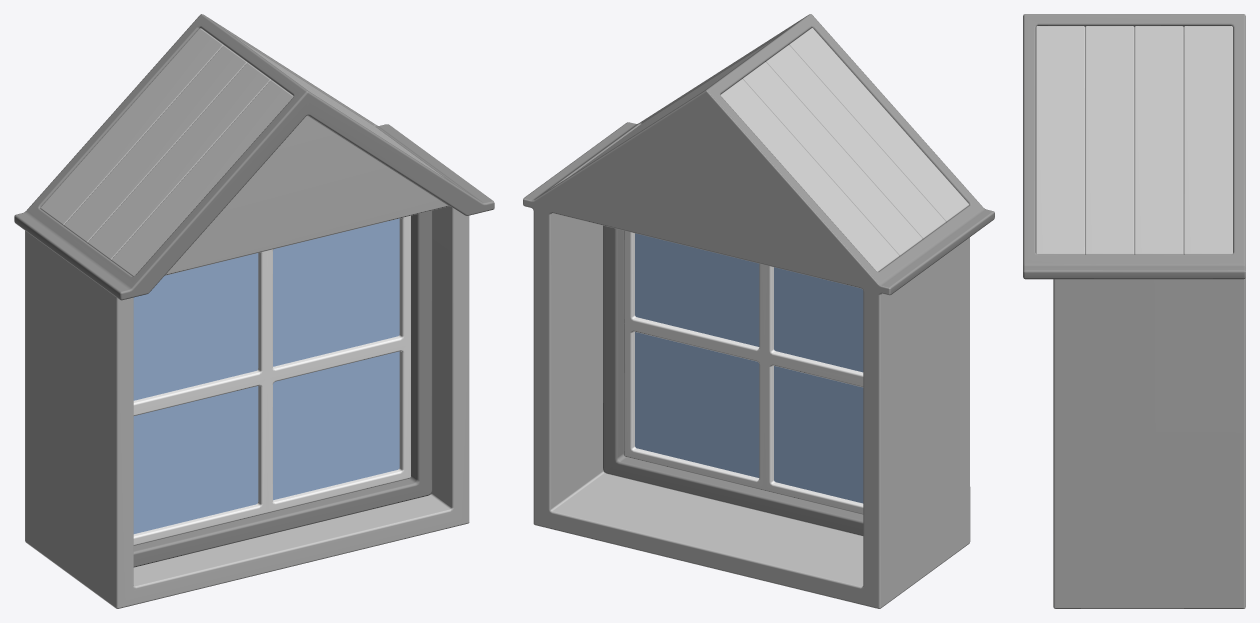
Rendered from left_window.fbx.
3 views of the same model, side by side, from view 1: azimuth 30°, elevation 25°; view 2: azimuth 150°, elevation 25°; view 3: azimuth 270°, elevation 25° (orthographic). The views are drawn at different scales.
Parts seen in each view (by area): view 1: wind_e_019_grey_0, wind_e_019_glass_0, wind_e_019_dark_grey_0, wind_e_019_white_0; view 2: wind_e_019_grey_0, wind_e_019_glass_0, wind_e_019_dark_grey_0, wind_e_019_white_0; view 3: wind_e_019_grey_0, wind_e_019_dark_grey_0.
Boxes of the visible parts, x1,y1,x2,y2 form: wind_e_019_grey_0: (25, 28, 469, 608); wind_e_019_glass_0: (133, 218, 399, 533); wind_e_019_dark_grey_0: (14, 14, 494, 567); wind_e_019_white_0: (133, 215, 410, 545); wind_e_019_grey_0: (523, 28, 970, 608); wind_e_019_glass_0: (635, 233, 863, 503); wind_e_019_dark_grey_0: (523, 14, 994, 535); wind_e_019_white_0: (623, 230, 863, 514); wind_e_019_grey_0: (1036, 15, 1245, 608); wind_e_019_dark_grey_0: (1023, 14, 1245, 279).
Bounding box in the file's own units: 103 × 50.75 × 127.
